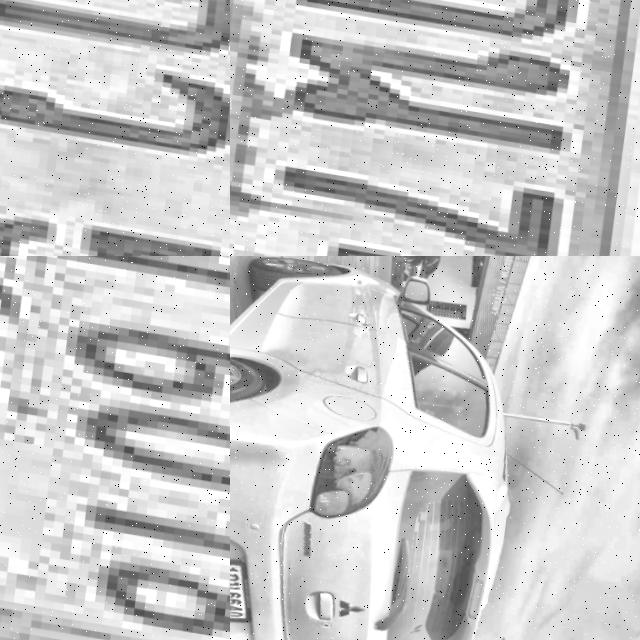license-plate: (230, 0, 640, 256), (0, 256, 230, 640), (0, 0, 230, 256), (230, 549, 261, 627)
